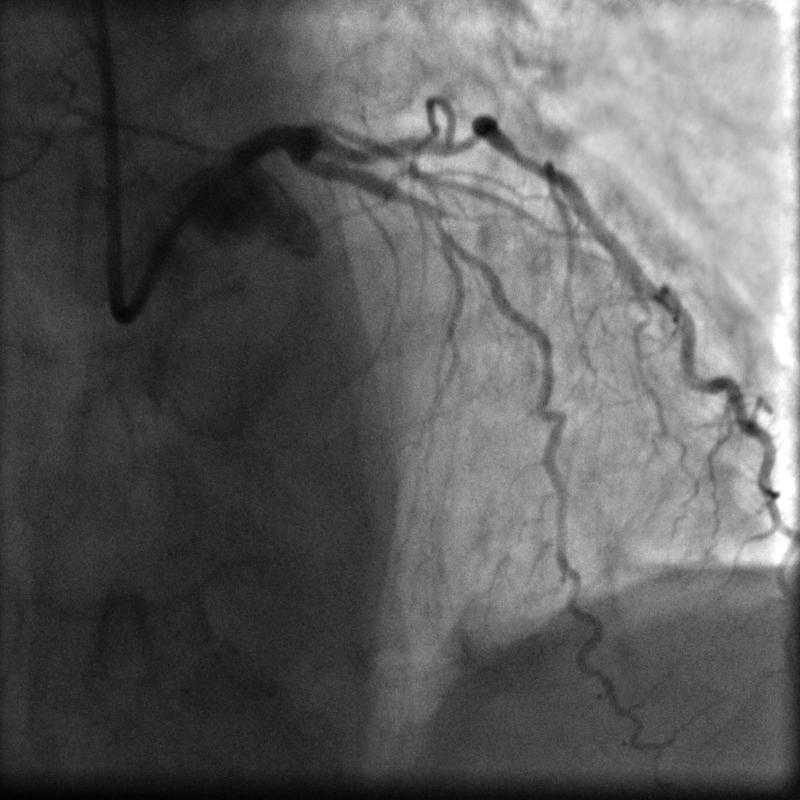Stenosis: (404, 183, 451, 243)
